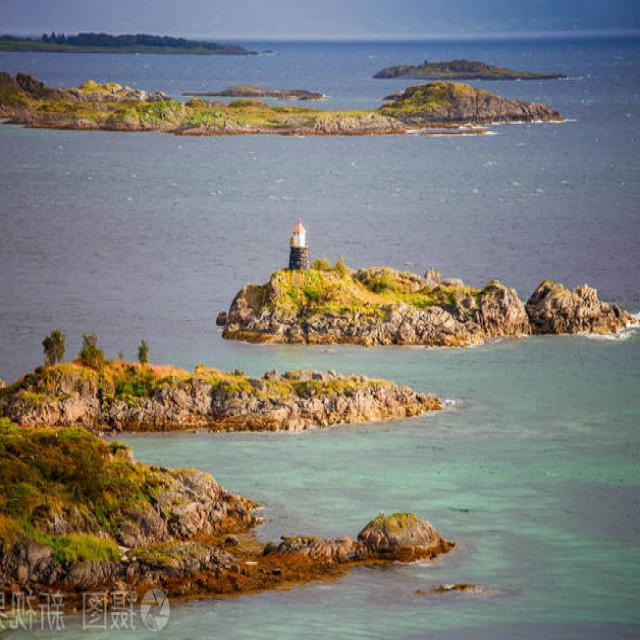reef: (19, 435, 475, 611), (88, 98, 557, 182), (359, 250, 624, 342), (368, 27, 560, 87)
